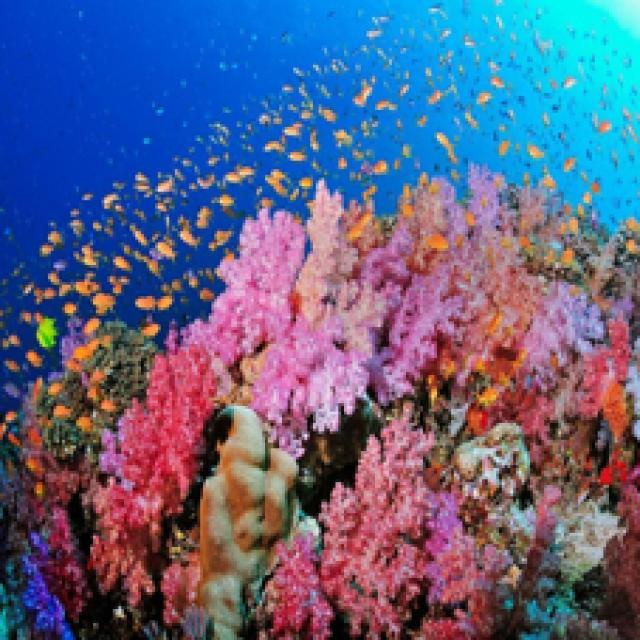Healthy: (1, 170, 638, 638)
